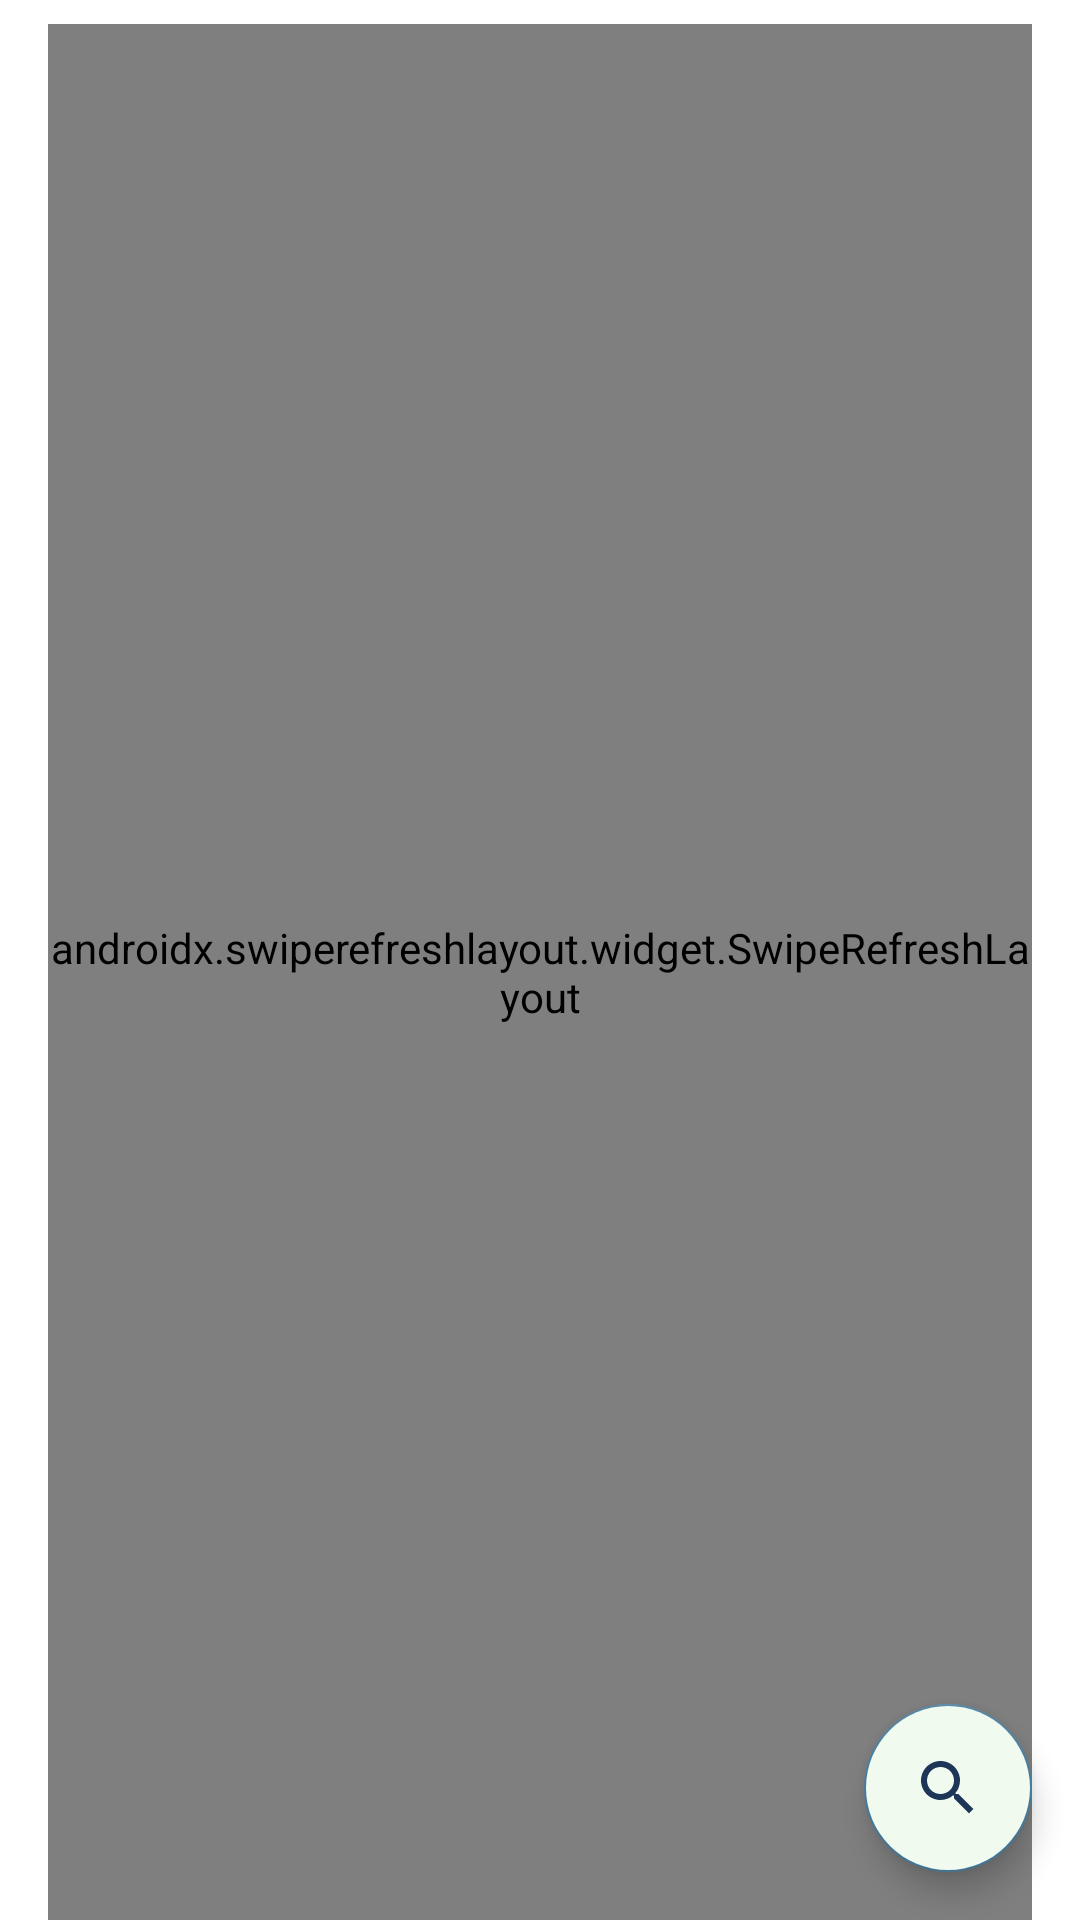

Named icons in this screenshot (1080px×1920px) and their centers, [x,y]:
search: [948,1788]
